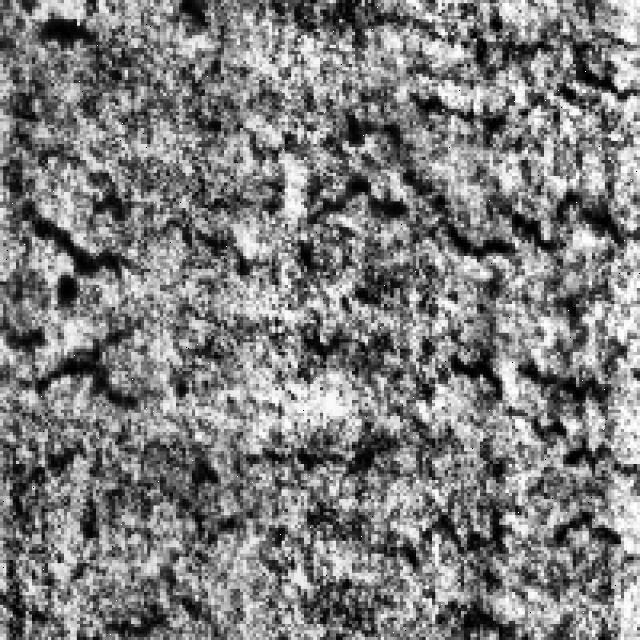Pitted_Surface: (3, 154, 240, 630), (307, 3, 634, 304), (358, 349, 630, 637)
